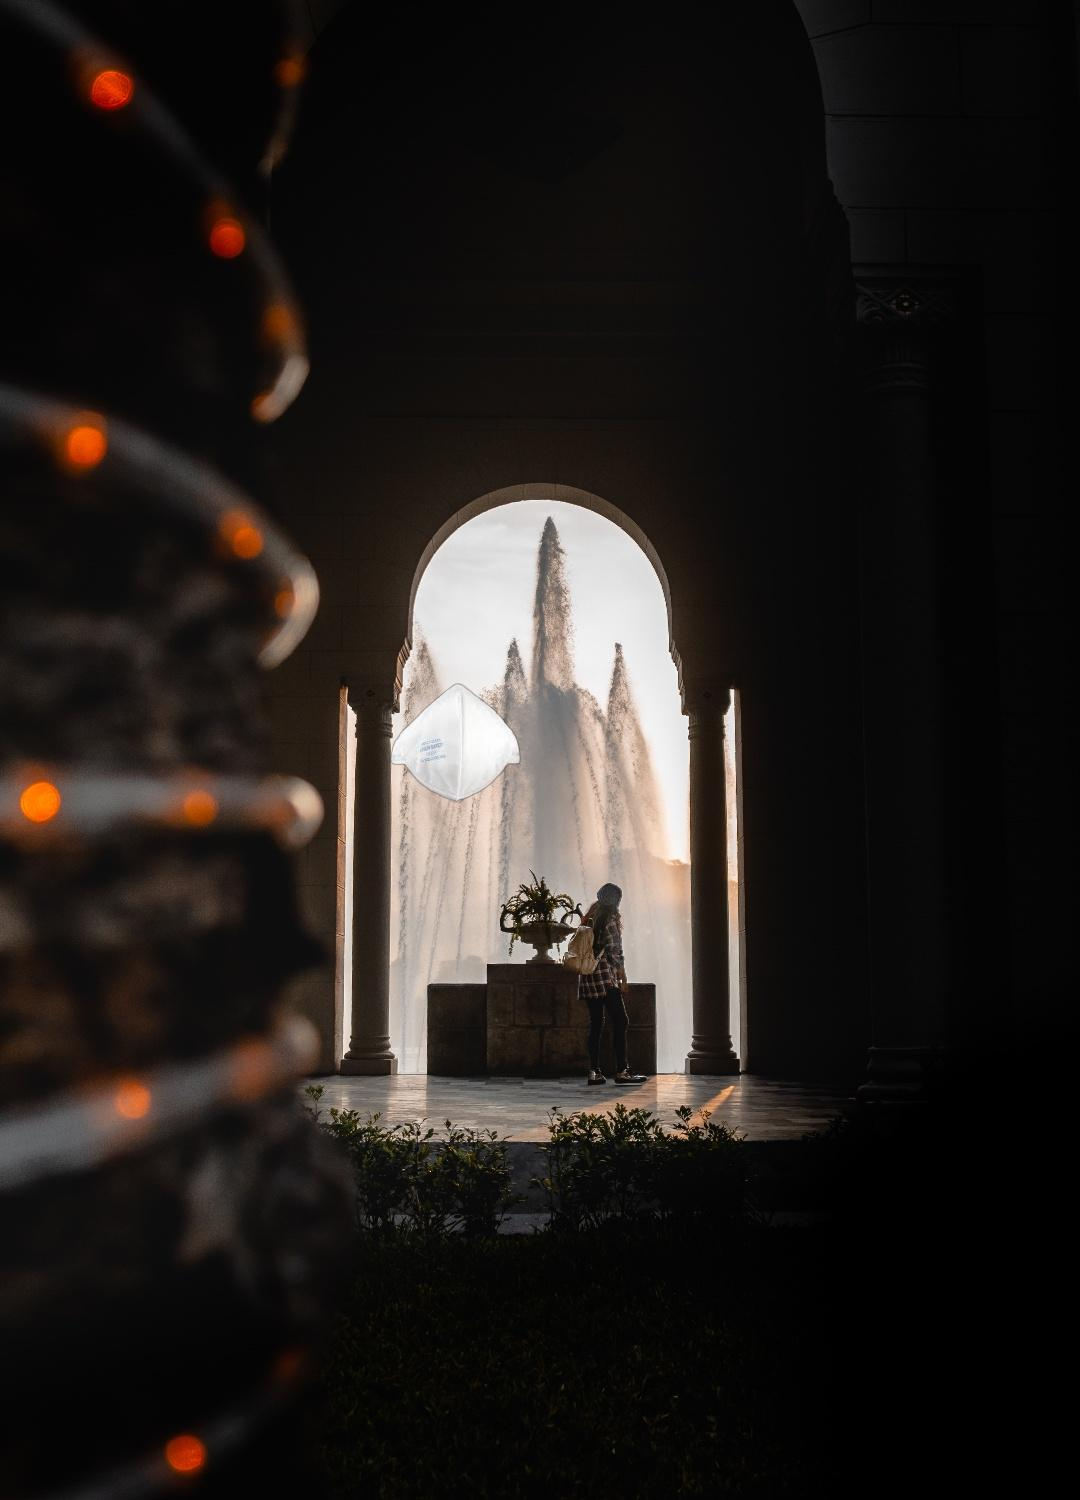trash: (388, 681, 523, 804)
